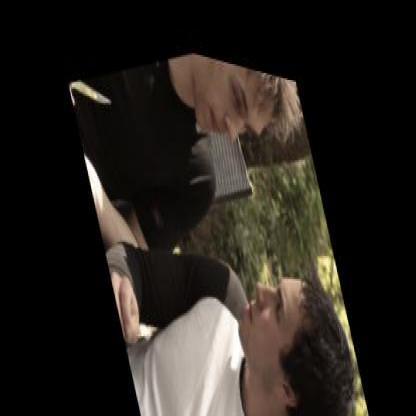knife: (66, 57, 120, 130)
